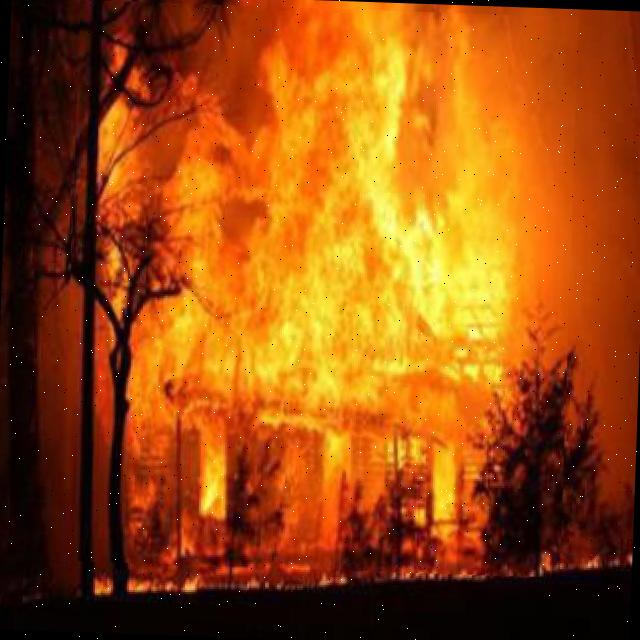fire: (60, 0, 578, 577)
